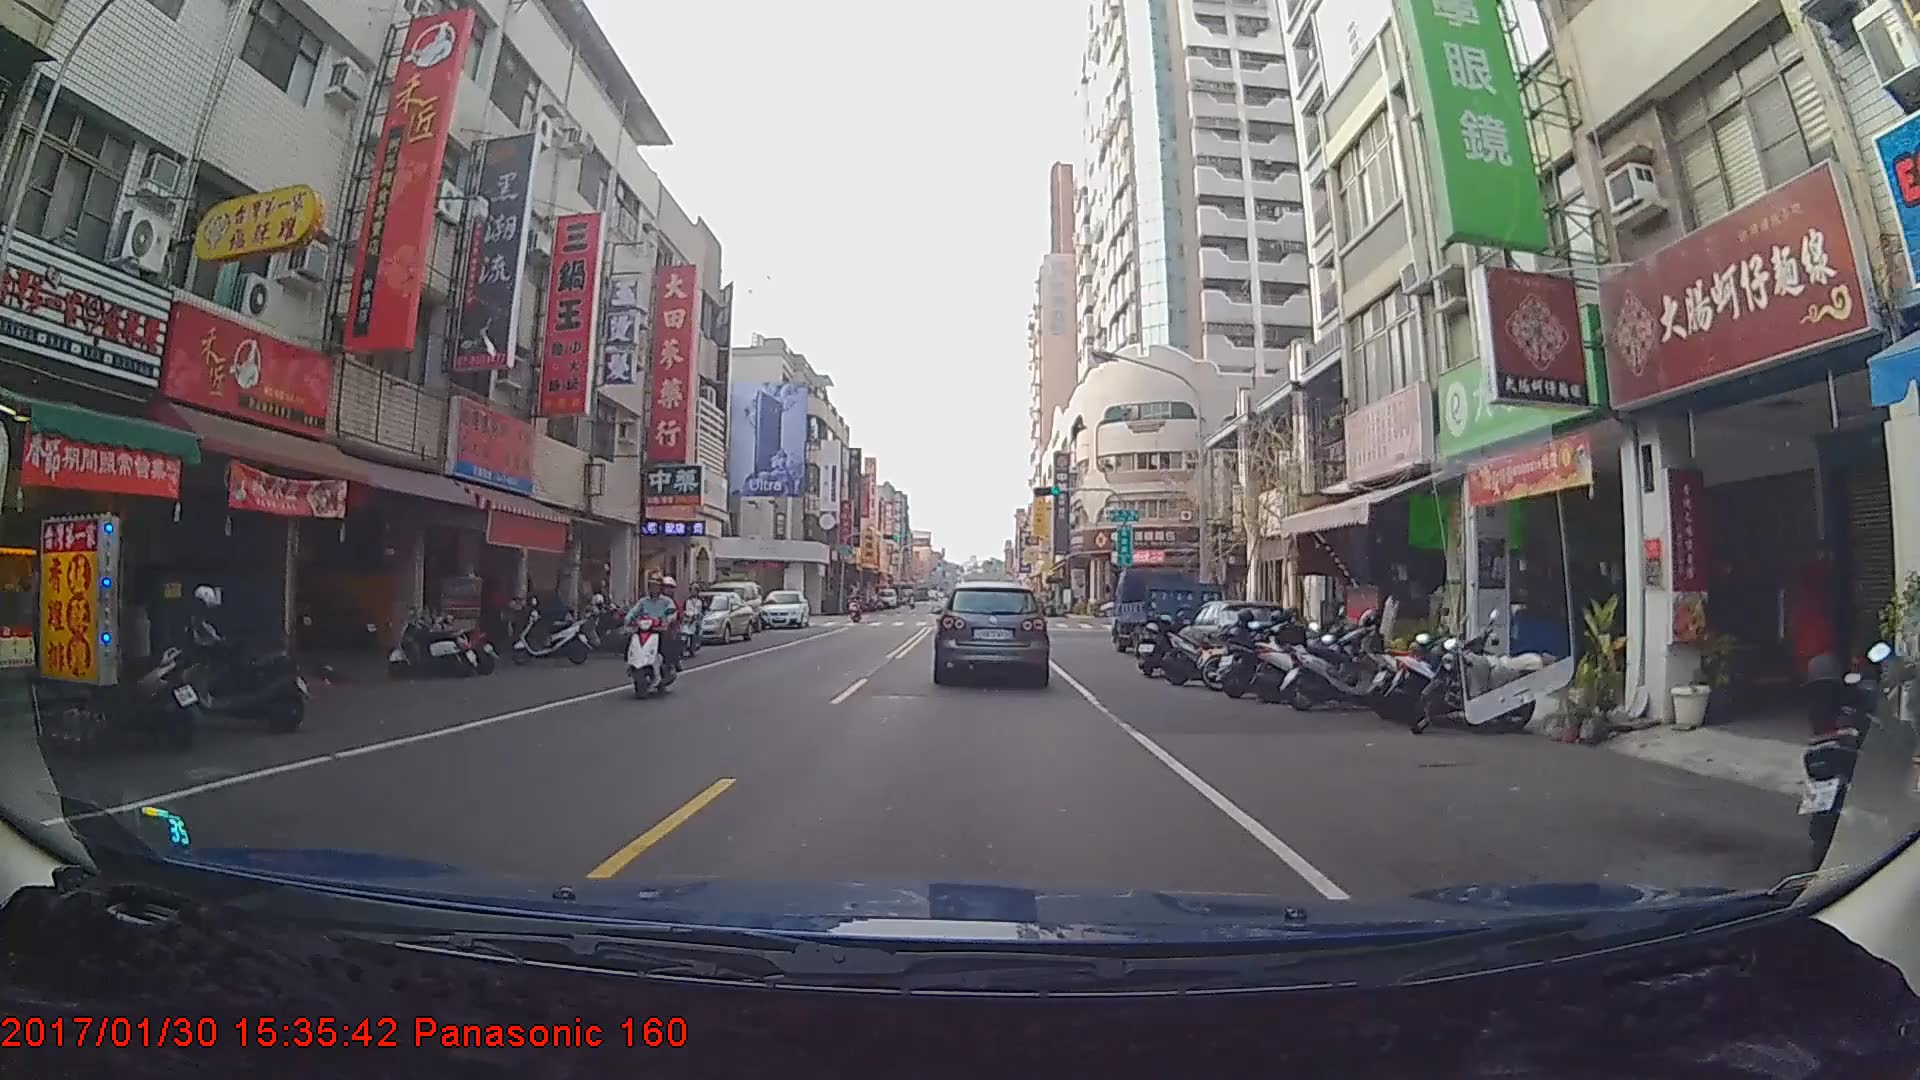rider: (621, 571, 691, 705), (846, 580, 866, 616)
vehicle: (935, 580, 1049, 684), (1107, 565, 1224, 657), (663, 588, 756, 645), (757, 581, 808, 624)
